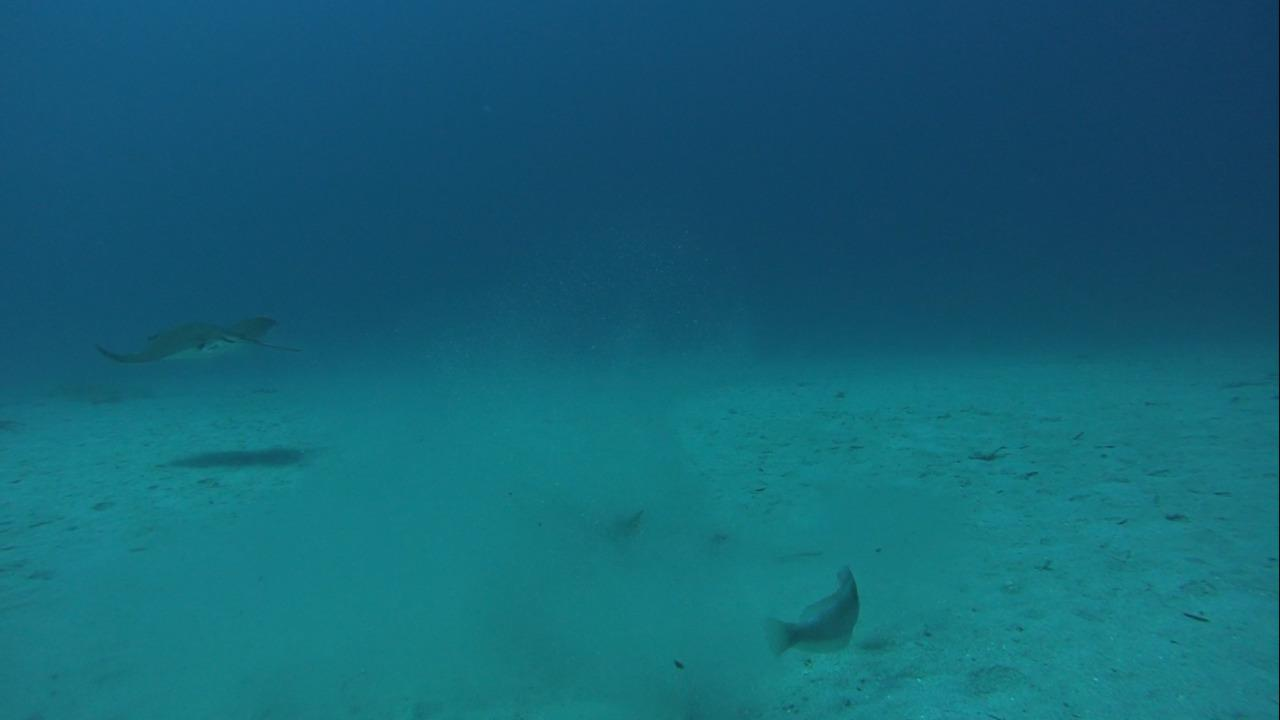myliobatis: (82, 309, 314, 373)
raor: (758, 561, 862, 660)
